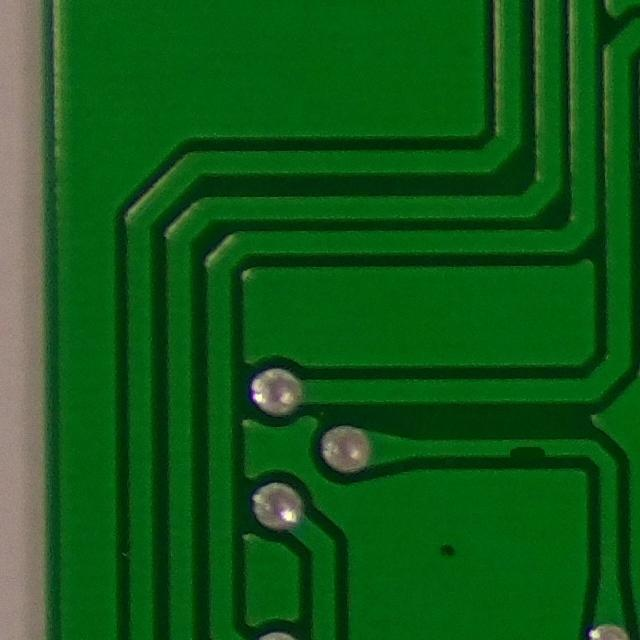mouse_bite: (491, 428, 559, 470)
